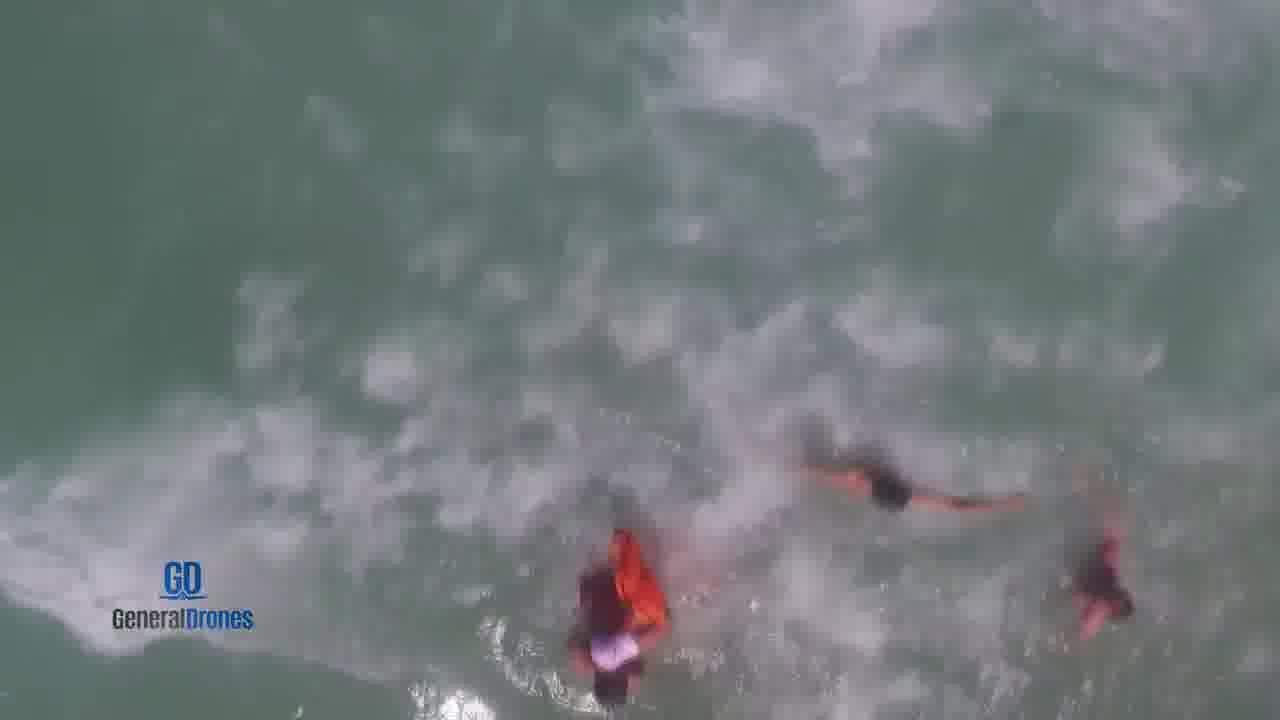human: (788, 436, 1021, 524), (558, 601, 665, 709), (1059, 510, 1134, 649)
